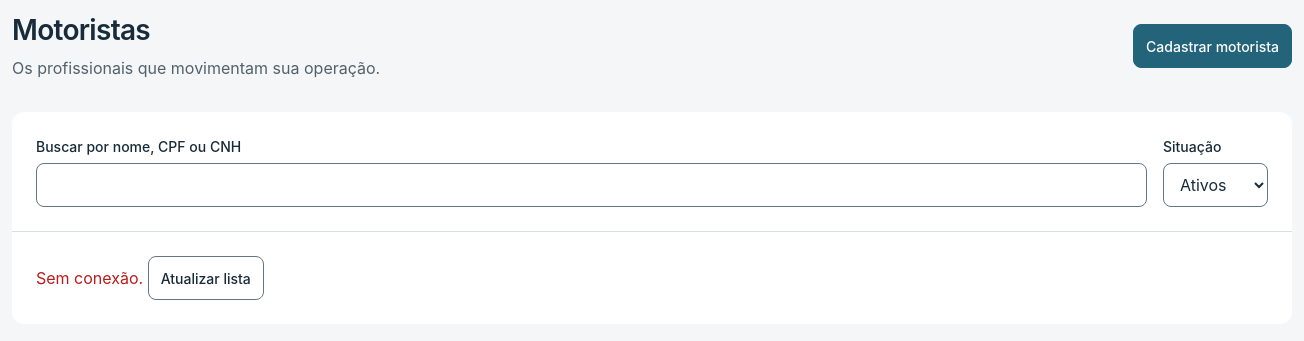
Test: permite recuperar falha de consulta
The image size is (1304, 341).
expect the text "Sem conexão." is shown: met, box [36,268,143,288]
Click the button "Atualizar lista". click: x=206, y=278
box: [148,256,264,300]
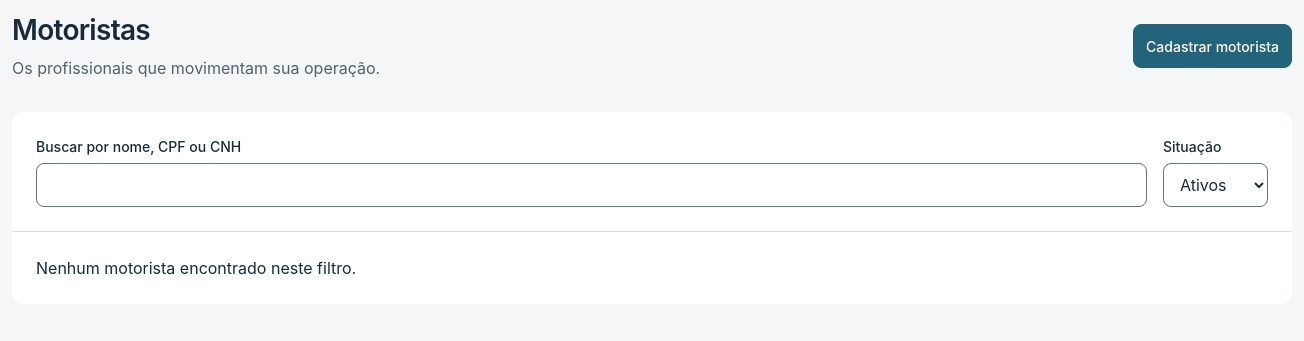
expect the text "Nenhum motorista encontrado neste filtro." is shown: met, box [36,258,356,278]
